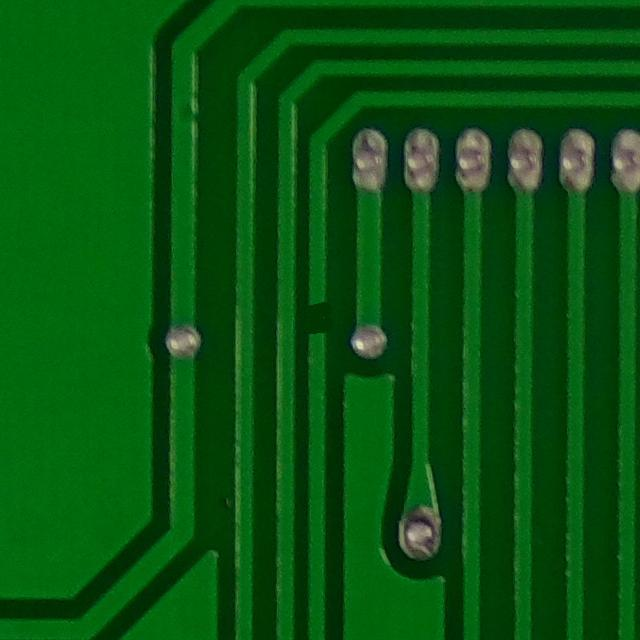open_circuit: (298, 291, 343, 349)
